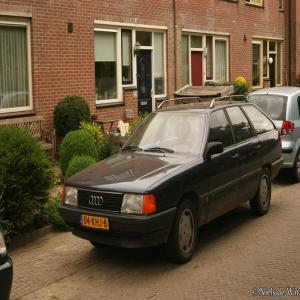Vehicle-registration-plate: (81, 215, 110, 229)
